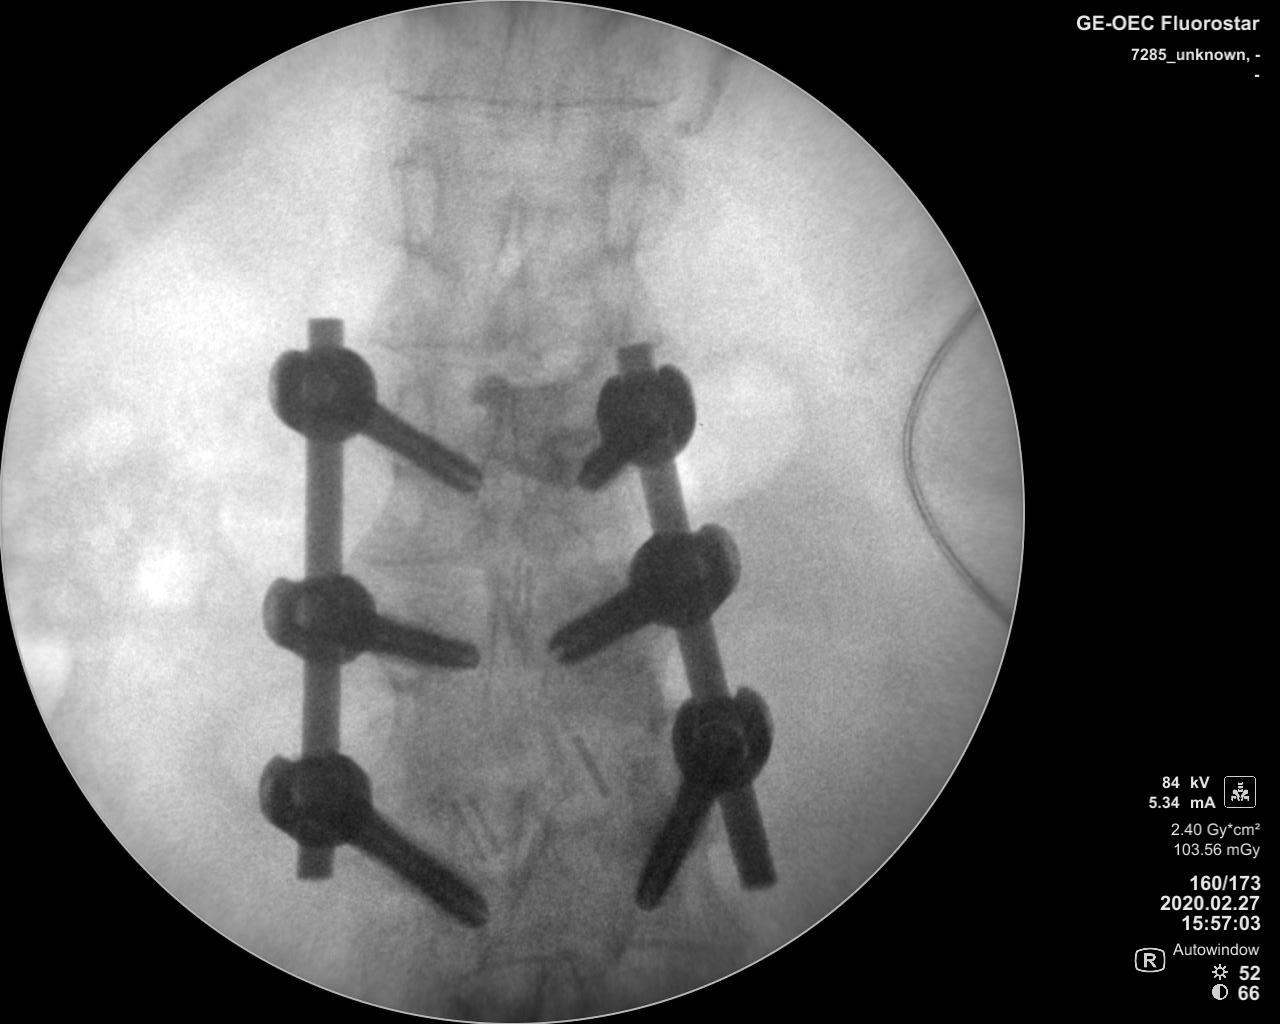eyes: (599, 137, 646, 252), (389, 380, 436, 469), (399, 154, 442, 247)
line: (447, 936, 739, 986), (387, 84, 675, 113), (364, 329, 616, 355)
nose: (481, 174, 533, 346), (478, 571, 533, 730), (475, 377, 529, 530), (488, 7, 545, 140)
